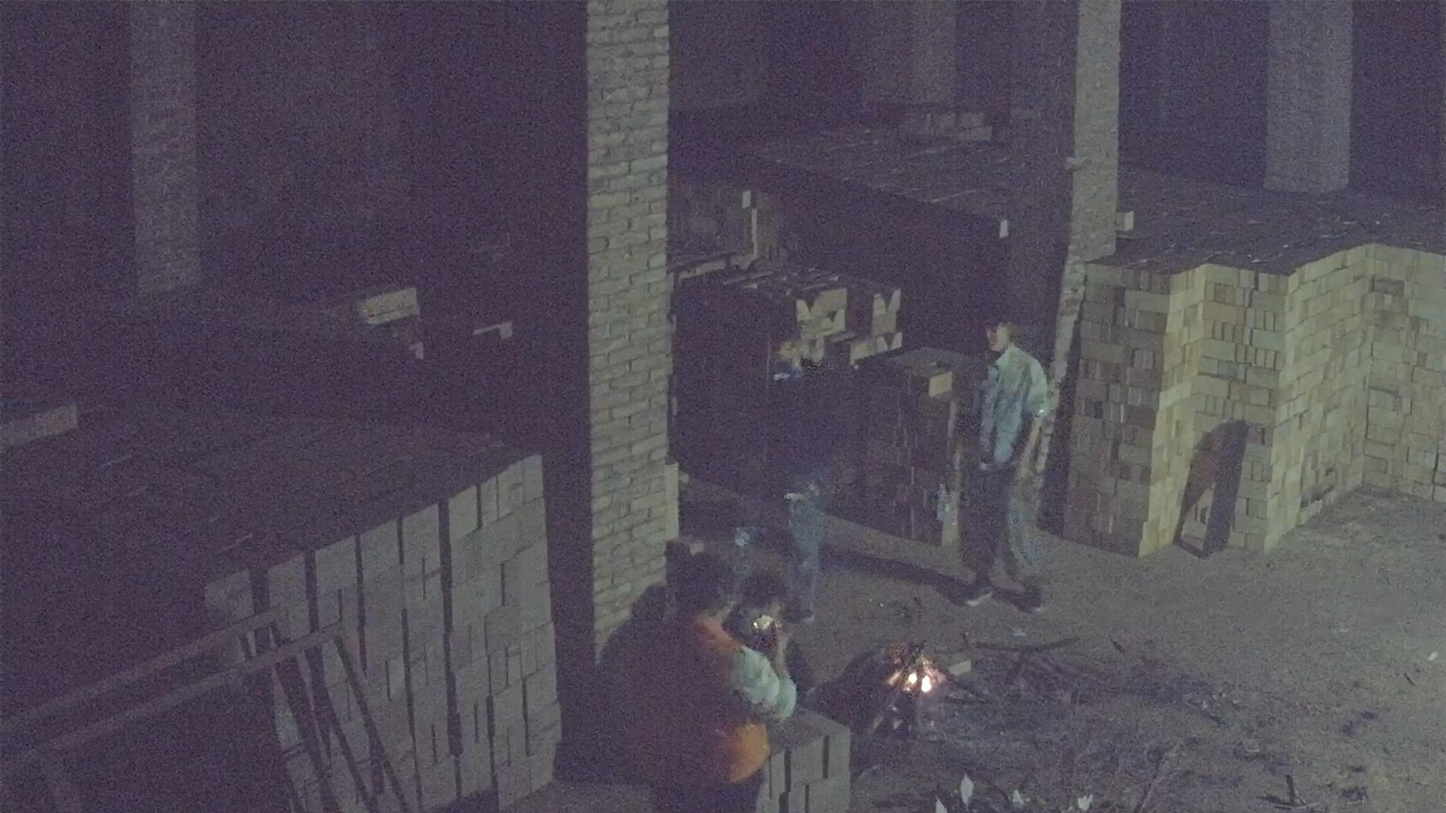fire: (882, 643, 938, 694)
